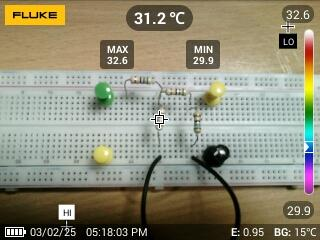resistor: (191, 111, 206, 137), (126, 73, 157, 85), (153, 106, 167, 130), (163, 86, 190, 98)
